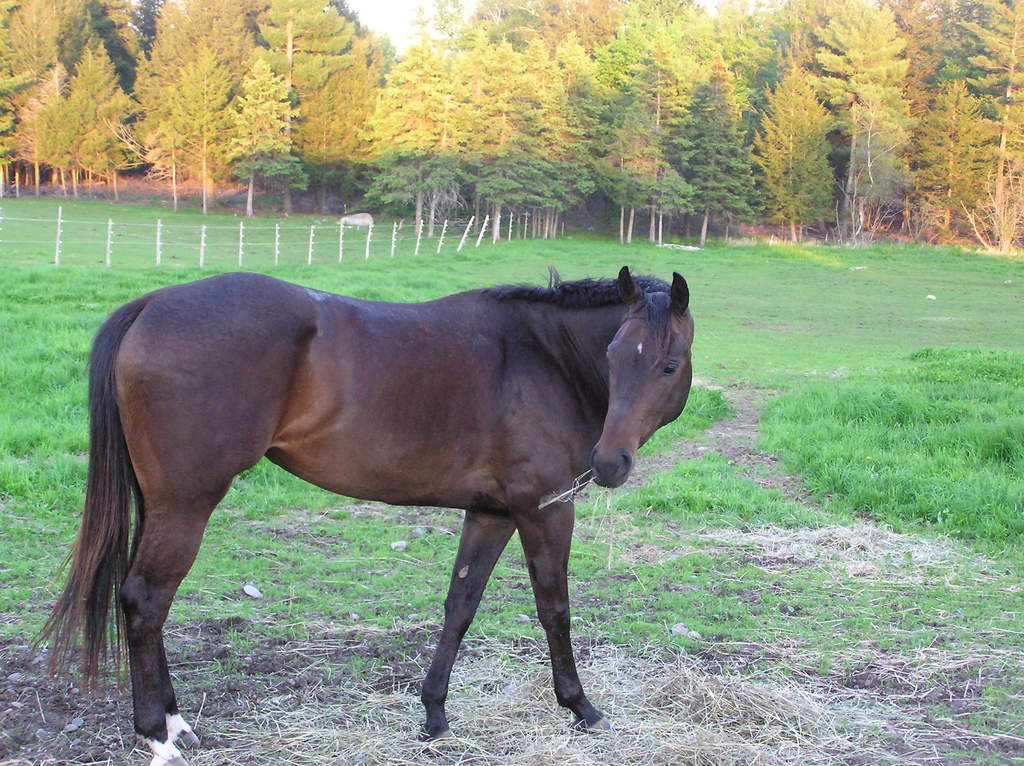horse: (23, 267, 696, 765)
